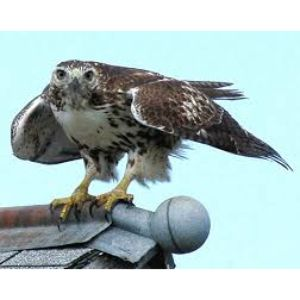hawk: (5, 49, 298, 219)
